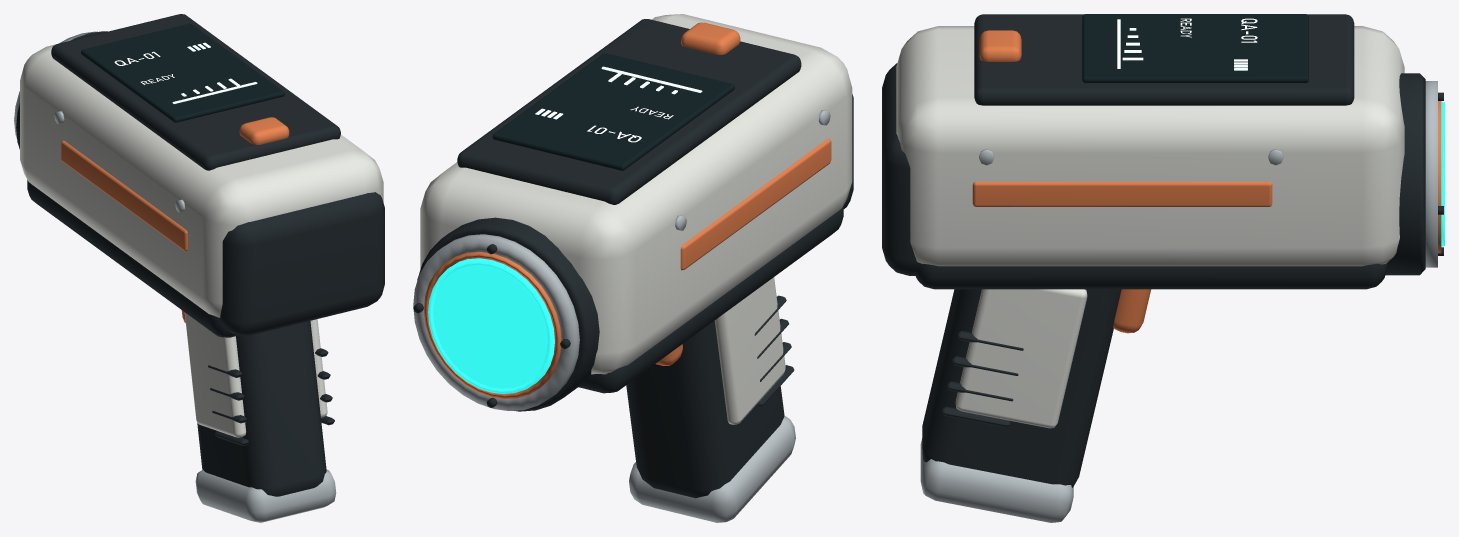
File: InspectorScanner.glb
3 views of the same model, side by side, from view 1: azimuth 30°, elevation 25°; view 2: azimuth 150°, elevation 25°; view 3: azimuth 270°, elevation 25° (orthographic). The views are drawn at different scales.
Visible parts, largest first — view 1: scanner_Scanner_GraphiteGrip, scanner_Scanner_CeramicShell, scanner_Scanner_DisplayGlass, scanner_Scanner_MachinedAluminum, scanner_Scanner_CopperAccent, scanner_Scanner_DisplayGraphics; view 2: scanner_Scanner_CeramicShell, scanner_Scanner_GraphiteGrip, scanner_Scanner_DisplayGlass, scanner_Scanner_OpticalTeal, scanner_Scanner_MachinedAluminum, scanner_Scanner_CopperAccent, scanner_Scanner_DisplayGraphics; view 3: scanner_Scanner_CeramicShell, scanner_Scanner_GraphiteGrip, scanner_Scanner_DisplayGlass, scanner_Scanner_CopperAccent, scanner_Scanner_MachinedAluminum, scanner_Scanner_DisplayGraphics.
Boxes of the visible parts, box(x1,y1,x2,y2) form: scanner_Scanner_GraphiteGrip: box(14, 14, 384, 496); scanner_Scanner_CeramicShell: box(20, 44, 383, 437); scanner_Scanner_DisplayGlass: box(81, 23, 284, 122); scanner_Scanner_MachinedAluminum: box(14, 31, 336, 522); scanner_Scanner_CopperAccent: box(61, 117, 289, 322); scanner_Scanner_DisplayGraphics: box(114, 42, 257, 103); scanner_Scanner_CeramicShell: box(420, 14, 852, 424); scanner_Scanner_GraphiteGrip: box(413, 19, 853, 498); scanner_Scanner_DisplayGlass: box(492, 53, 734, 170); scanner_Scanner_OpticalTeal: box(428, 258, 554, 393); scanner_Scanner_MachinedAluminum: box(413, 110, 830, 522); scanner_Scanner_CopperAccent: box(423, 22, 831, 399); scanner_Scanner_DisplayGraphics: box(535, 66, 702, 142); scanner_Scanner_CeramicShell: box(896, 26, 1404, 428); scanner_Scanner_GraphiteGrip: box(882, 14, 1443, 487); scanner_Scanner_DisplayGlass: box(1082, 14, 1308, 82); scanner_Scanner_CopperAccent: box(972, 30, 1441, 333); scanner_Scanner_MachinedAluminum: box(920, 81, 1437, 522); scanner_Scanner_DisplayGraphics: box(1117, 18, 1257, 70).
Size of the model in its own units: 0.0729 by 0.1474 by 0.1615.
